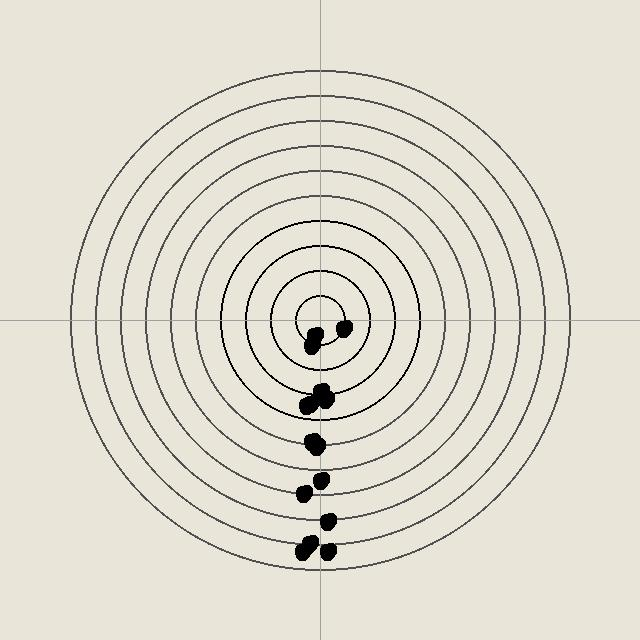vertical_scatter: (333, 318, 353, 338), (293, 483, 313, 503), (317, 541, 337, 561), (306, 436, 326, 456), (315, 389, 335, 409), (300, 393, 320, 413), (299, 533, 319, 553), (296, 395, 316, 415), (317, 511, 337, 531), (301, 335, 321, 355), (310, 381, 330, 401), (310, 470, 330, 490), (304, 325, 324, 345), (301, 431, 321, 451), (292, 541, 312, 561)
